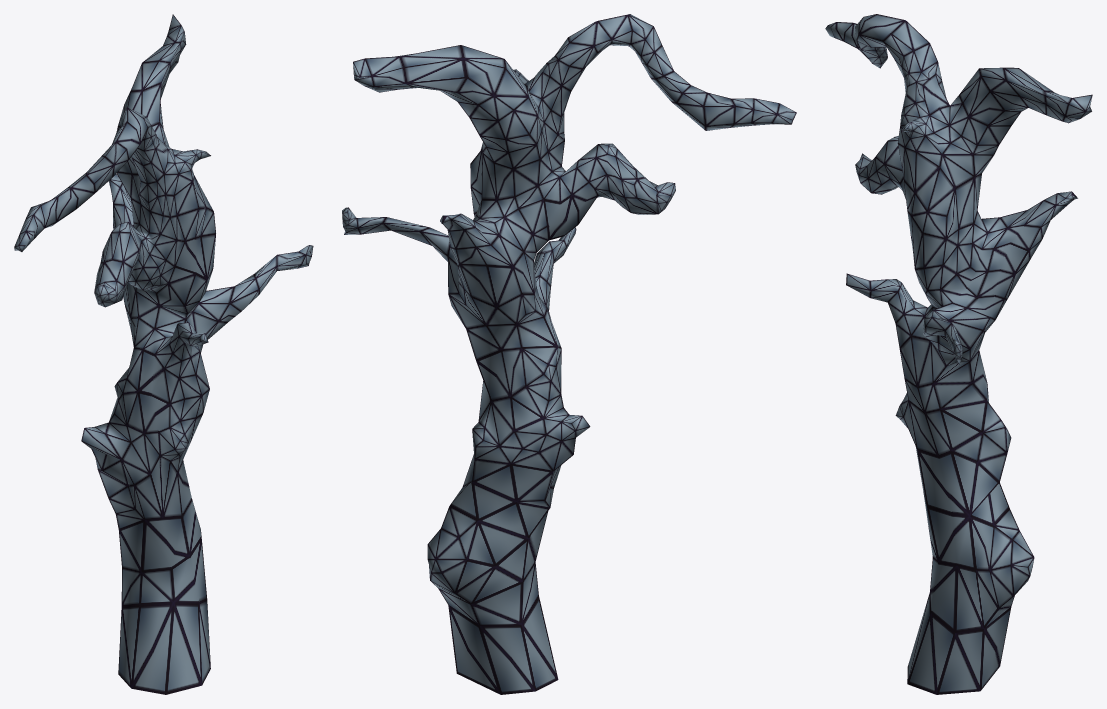
The model's file is entity11602.gltf.
The picture shows the model from 3 angles, left to right: view 1: azimuth 30°, elevation 25°; view 2: azimuth 150°, elevation 25°; view 3: azimuth 270°, elevation 25°; orthographic projection. The views are drawn at different scales.
Visible parts, largest first — view 1: node_Museum_Tree_01; view 2: node_Museum_Tree_01; view 3: node_Museum_Tree_01.
Boxes of the visible parts, x1,y1,x2,y2 form: node_Museum_Tree_01: (14,14,313,694); node_Museum_Tree_01: (342,14,796,694); node_Museum_Tree_01: (825,14,1092,694).
Size of what is drawn, in the model's own units: 58.72 by 94.11 by 36.44.
Materials: 1 (1 with a texture image).
